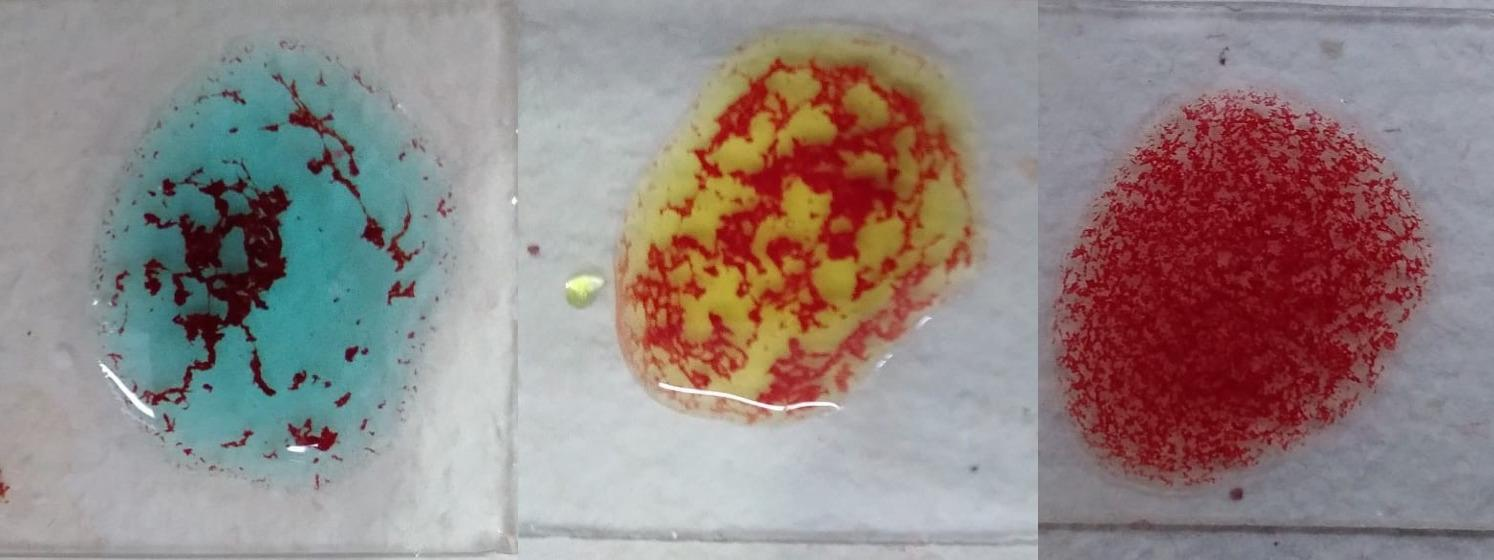A: (79, 43, 441, 494)
B: (616, 30, 966, 426)
D: (1064, 86, 1426, 496)
